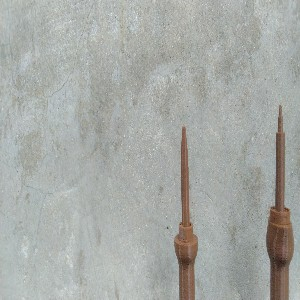obeng: (174, 126, 200, 300)
solder: (265, 104, 296, 300)
